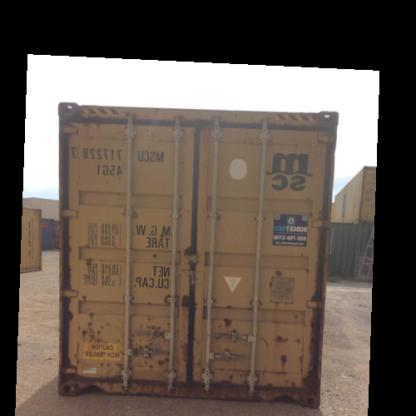Damage: (134, 314, 170, 366), (76, 310, 119, 350), (193, 358, 240, 387), (96, 355, 128, 385), (273, 351, 296, 387), (77, 115, 111, 134), (180, 241, 200, 273), (256, 333, 269, 378), (295, 249, 312, 278), (176, 290, 194, 314), (305, 201, 321, 226), (62, 350, 82, 369), (268, 266, 284, 288), (74, 286, 93, 300), (212, 205, 224, 225), (64, 302, 74, 323), (172, 110, 189, 121), (286, 309, 303, 319), (83, 256, 97, 268), (158, 290, 171, 302), (293, 331, 304, 344), (272, 333, 286, 343), (148, 105, 161, 115), (220, 316, 234, 325), (220, 298, 234, 306), (151, 246, 160, 257), (82, 239, 93, 247)
